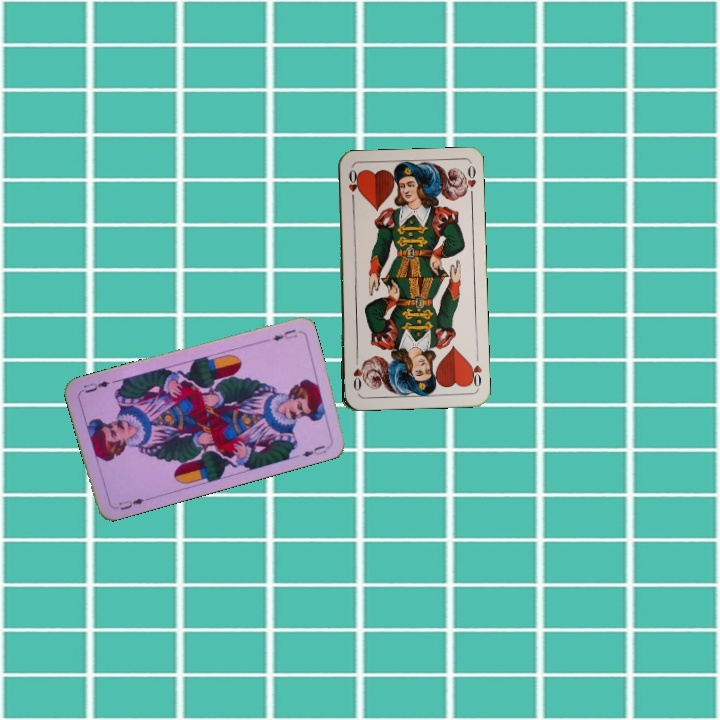EU: (114, 493, 151, 513), (268, 325, 299, 344)
HO: (465, 350, 484, 391), (344, 165, 359, 206)
